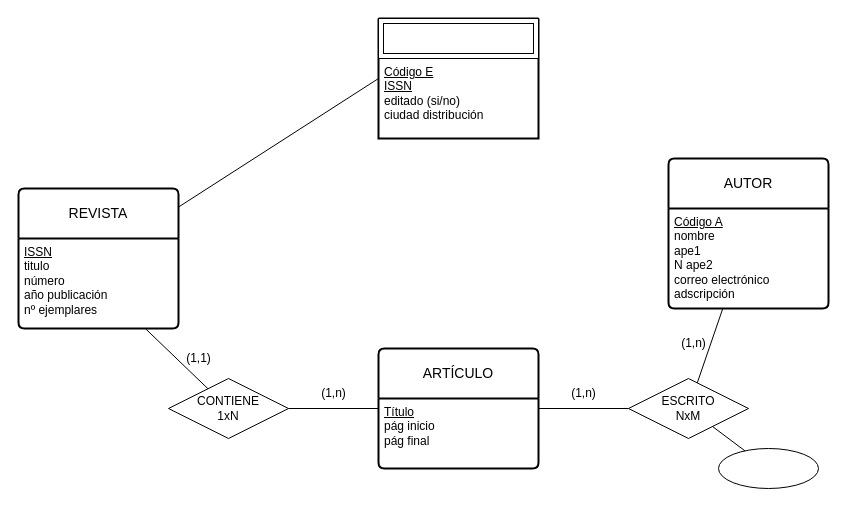
Image size: 846x506. Some labels were removed from this diagram. The centre of each missing label's shape, as x and y in pixels:
EJEMPLAR: the point at 458,38
posición: the point at 768,468
